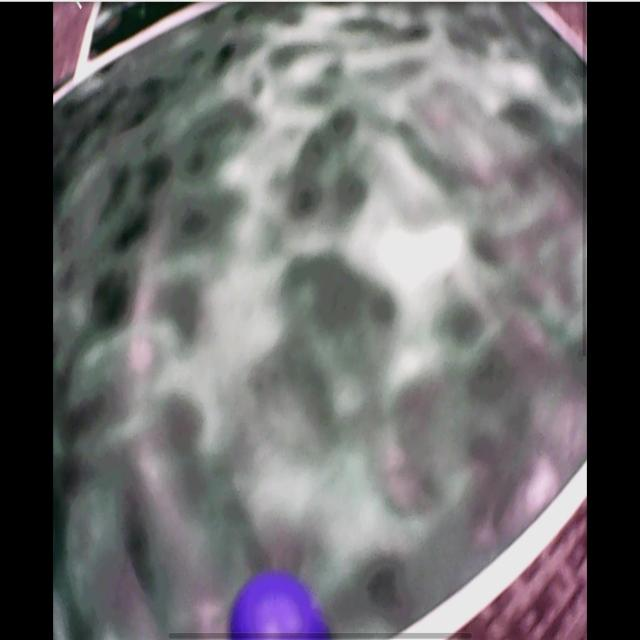ball: (229, 574, 322, 640)
